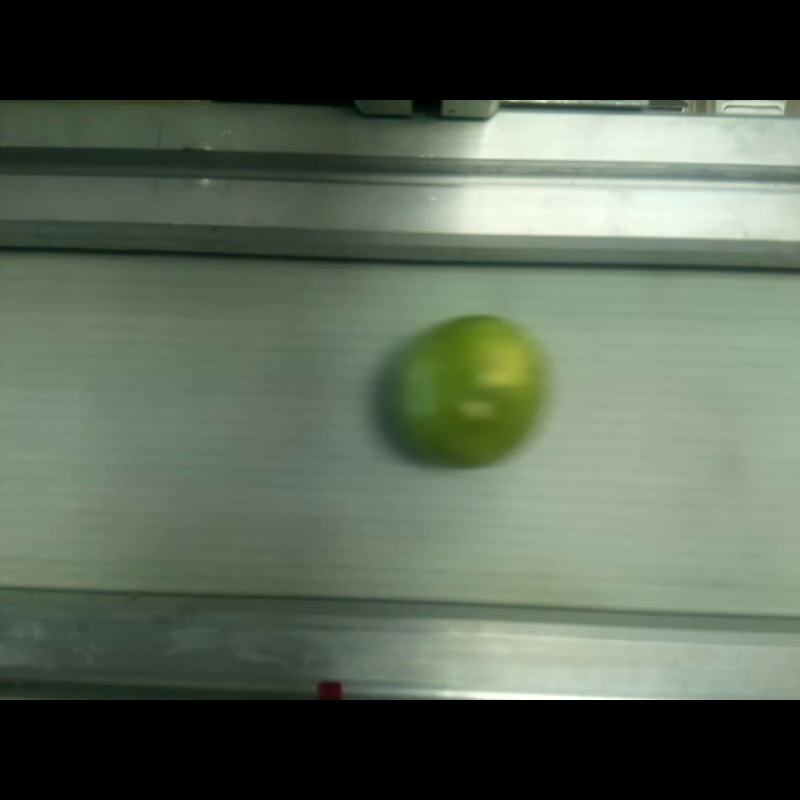lime: (383, 315, 543, 466)
